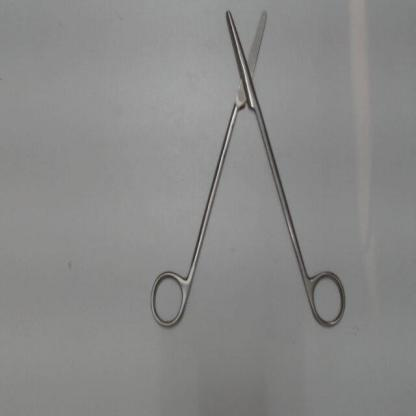9 Metzenbaum Scissors: (141, 2, 354, 336)
